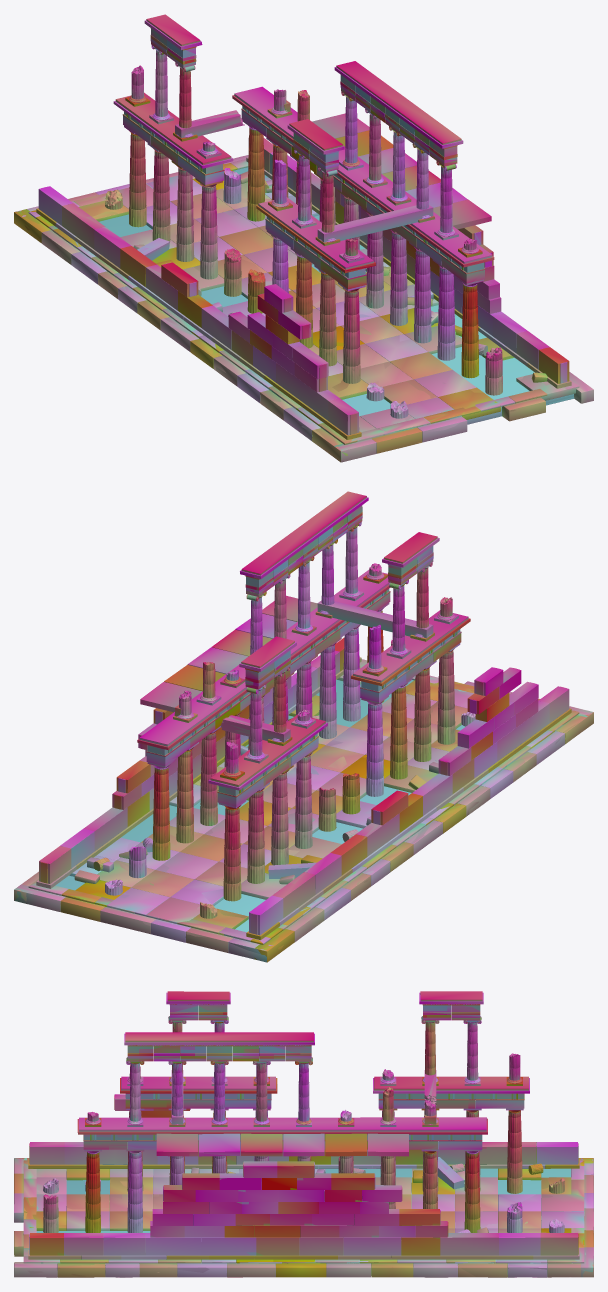
The model's file is colonnade_hall.glb.
3 views of the same model, one above another, from view 1: azimuth 30°, elevation 25°; view 2: azimuth 150°, elevation 25°; view 3: azimuth 270°, elevation 25° (orthographic). The views are drawn at different scales.
Visible parts, largest first — view 1: ColonnadeHall, ColonnadeHall_lod; view 2: ColonnadeHall, ColonnadeHall_lod; view 3: ColonnadeHall, ColonnadeHall_lod.
Part boxes in pixels (x1,y1,x2,y2): ColonnadeHall: (14, 17, 593, 462); ColonnadeHall_lod: (21, 14, 593, 462); ColonnadeHall: (14, 491, 593, 962); ColonnadeHall_lod: (14, 493, 592, 958); ColonnadeHall: (14, 991, 593, 1277); ColonnadeHall_lod: (14, 992, 593, 1277).
Bounding box in the file's own units: 24.63 × 21.65 × 55.02.
